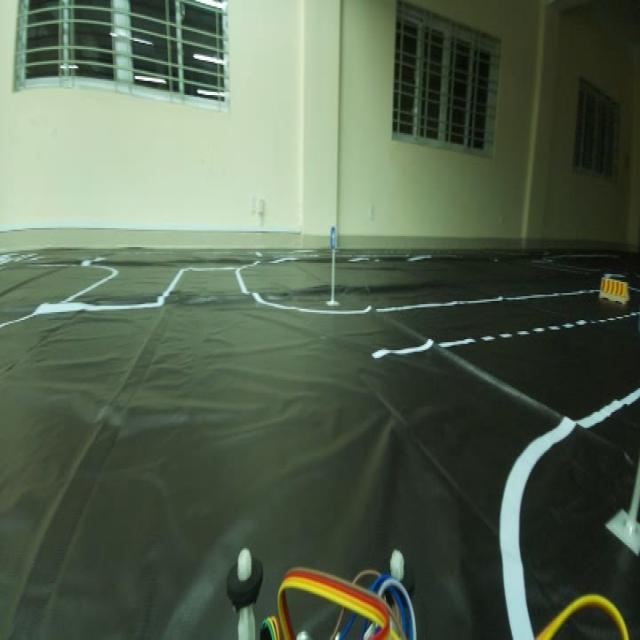onewayroad: (325, 220, 340, 242)
roadblock: (596, 270, 630, 315)
